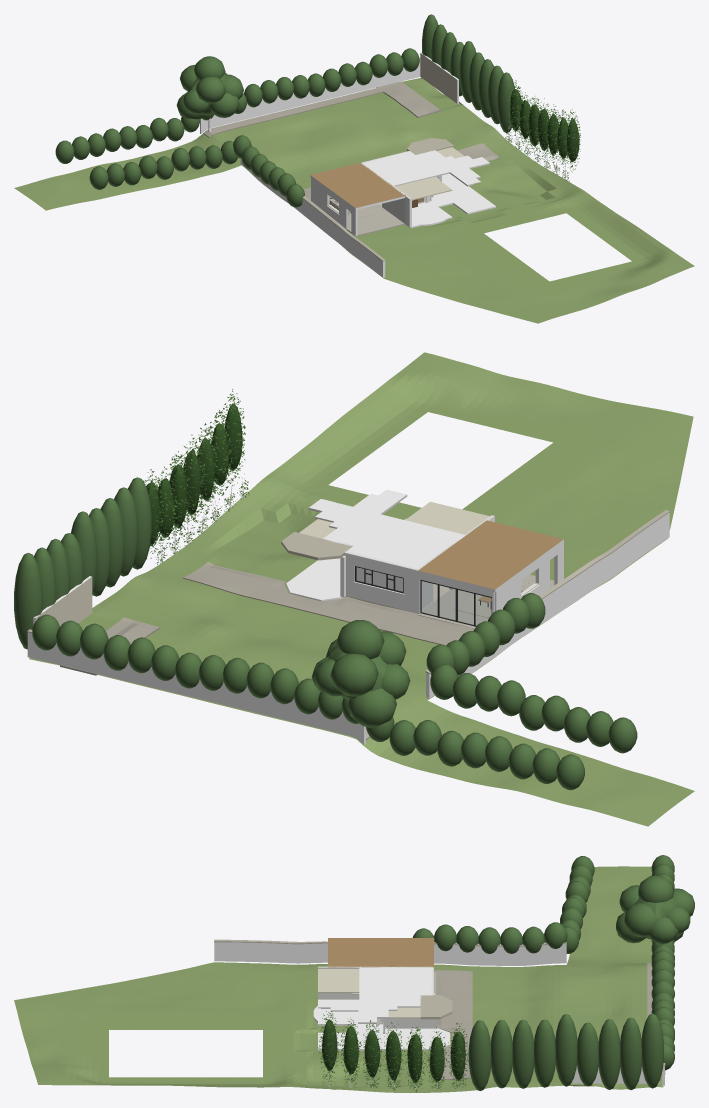
The picture shows the model from 3 angles, top to bottom: view 1: azimuth 30°, elevation 25°; view 2: azimuth 150°, elevation 25°; view 3: azimuth 270°, elevation 25°; orthographic projection. The views are drawn at different scales.
Visible parts, largest first — view 1: Proposal revision | Plot ground - title plan approximate, Proposal | Boundary leaf detail East, Proposal | Side wing first floor, Main rear garden niche wall, Proposal revision | Western house boundary wall, Rear wall garden path, Entrance hall | floor, Outbuilding path - faces lawn, Proposal revision | Landing | floor, Proposal revision | Bedroom 3 | floor, Proposal | Side wing ground floor, Boundary hedge.008 (+14 smaller); view 2: Proposal revision | Plot ground - title plan approximate, Proposal | Boundary leaf detail East, Proposal revision | Rear terrace paving, Proposal | Side wing first floor, Main rear garden niche wall, Proposal revision | Western house boundary wall, Proposal revision | Bedroom 3 | floor, Proposal revision | Landing | floor, Boundary hedge, Dining room | floor, Mature tree foliage.078, Family room | ceiling (+49 smaller); view 3: Proposal revision | Plot ground - title plan approximate, Proposal | Boundary leaf detail East, Proposal revision | Western house boundary wall, Proposal | Side wing first floor, Proposal revision | Rear terrace paving, Boundary hedge, Boundary hedge.004, Boundary hedge.001, Boundary hedge.002, Boundary hedge.008, Proposal revision | Landing | floor, Proposal revision | Bedroom 3 | floor (+25 smaller).
Part boxes in pixels (x1,y1,x2,y2): Proposal revision | Plot ground - title plan approximate: [14, 77, 694, 323]; Proposal | Boundary leaf detail East: [505, 80, 580, 181]; Proposal | Side wing first floor: [310, 162, 405, 209]; Main rear garden niche wall: [200, 61, 420, 133]; Proposal revision | Western house boundary wall: [240, 158, 385, 277]; Rear wall garden path: [203, 87, 383, 137]; Entrance hall | floor: [431, 186, 495, 214]; Outbuilding path - faces lawn: [376, 81, 441, 117]; Proposal revision | Landing | floor: [422, 155, 489, 186]; Proposal revision | Bedroom 3 | floor: [362, 151, 433, 175]; Proposal | Side wing ground floor: [329, 198, 405, 236]; Boundary hedge.008: [497, 72, 514, 132]; Proposal revision | Plot ground - title plan approximate: [29, 352, 694, 826]; Proposal | Boundary leaf detail East: [143, 389, 249, 564]; Proposal revision | Rear terrace paving: [183, 562, 474, 645]; Proposal | Side wing first floor: [418, 520, 563, 592]; Main rear garden niche wall: [27, 632, 365, 744]; Proposal revision | Western house boundary wall: [426, 512, 669, 698]; Proposal revision | Bedroom 3 | floor: [346, 525, 443, 569]; Proposal revision | Landing | floor: [308, 489, 410, 529]; Boundary hedge: [14, 552, 42, 649]; Dining room | floor: [286, 559, 343, 601]; Mature tree foliage.078: [330, 653, 378, 696]; Family room | ceiling: [405, 501, 489, 534]; Proposal revision | Plot ground - title plan approximate: [14, 866, 663, 1092]; Proposal | Boundary leaf detail East: [318, 1011, 468, 1092]; Proposal revision | Western house boundary wall: [214, 942, 566, 965]; Proposal | Side wing first floor: [328, 938, 433, 967]; Proposal revision | Rear terrace paving: [433, 970, 472, 1079]; Boundary hedge: [641, 1013, 663, 1088]; Boundary hedge.004: [555, 1014, 577, 1086]; Boundary hedge.001: [620, 1017, 641, 1089]; Boundary hedge.002: [598, 1019, 620, 1089]; Boundary hedge.008: [468, 1020, 490, 1090]; Proposal revision | Landing | floor: [318, 988, 388, 1023]; Proposal revision | Bedroom 3 | floor: [377, 967, 432, 994].
Size of the model in its own units: 44.11 by 8.49 by 52.36.
58 materials, 3 textured.
